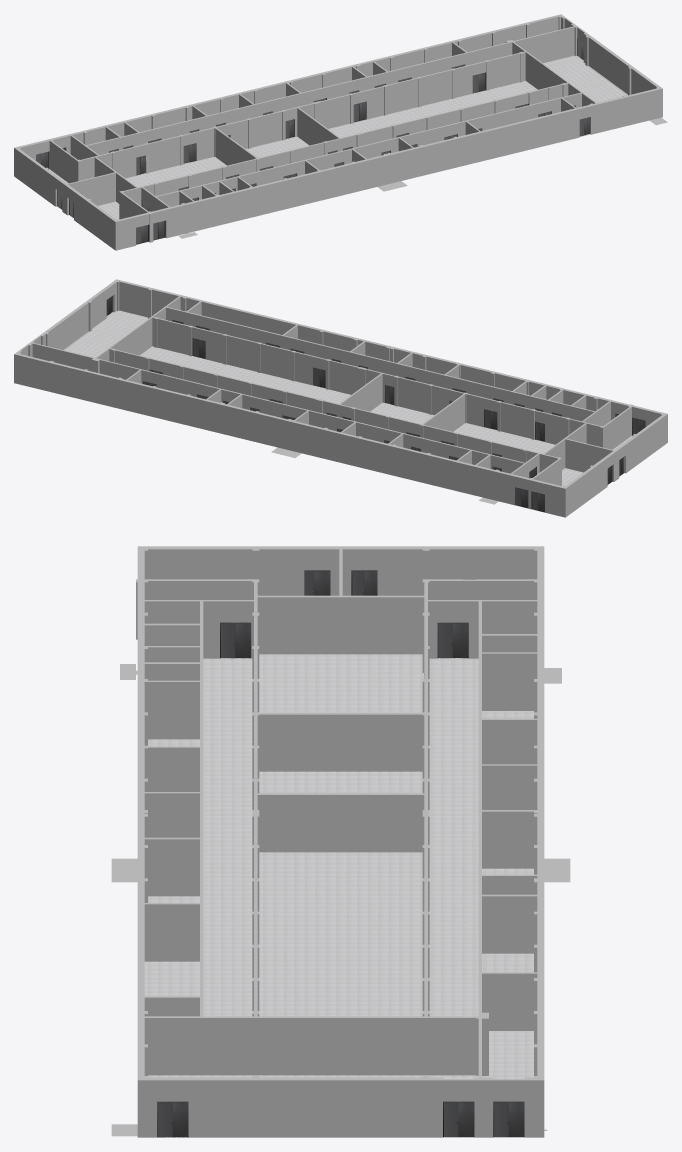
Rendered from room7Bx2.obj.
The picture shows the model from 3 angles, top to bottom: view 1: azimuth 30°, elevation 25°; view 2: azimuth 150°, elevation 25°; view 3: azimuth 270°, elevation 25°; orthographic projection. The views are drawn at different scales.
Visible parts, largest first — view 1: Room7; view 2: Room7; view 3: Room7.
Part boxes in pixels (box(x1,y1,x2,y2)): Room7: box(14, 14, 667, 250); Room7: box(14, 279, 667, 517); Room7: box(111, 546, 570, 1137).
Bounding box in the file's own units: 72.4 × 3.62 × 26.29.
